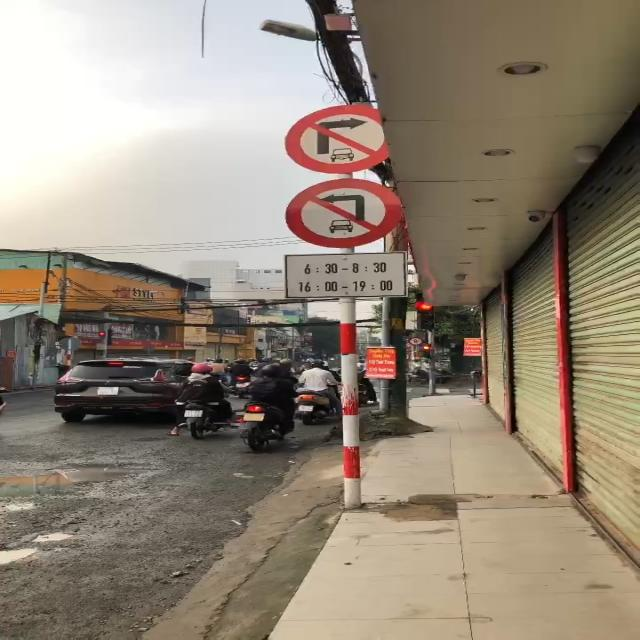Bien bao cam xe o to re phai: (281, 104, 407, 176)
Bien bao cam xe o to re trai: (283, 178, 412, 247)
